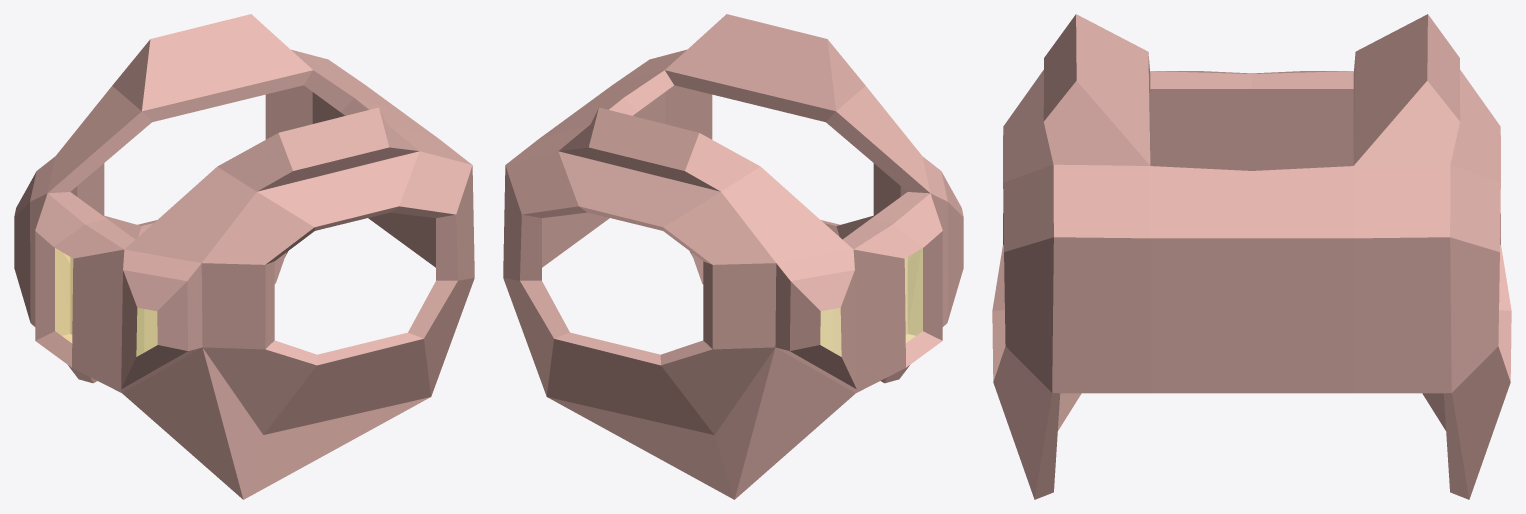
Rendered from cb_chest_2.gltf.
The picture shows the model from 3 angles, left to right: view 1: azimuth 30°, elevation 25°; view 2: azimuth 150°, elevation 25°; view 3: azimuth 270°, elevation 25°; orthographic projection. The views are drawn at different scales.
Visible parts, largest first — view 1: Plane.006; view 2: Plane.006; view 3: Plane.006.
Part boxes in pixels (box(x1,y1,x2,y2)): Plane.006: box(14, 14, 474, 499); Plane.006: box(503, 14, 963, 499); Plane.006: box(992, 14, 1511, 499).
Size of the model in its own units: 3.16 by 2.94 by 2.95.
